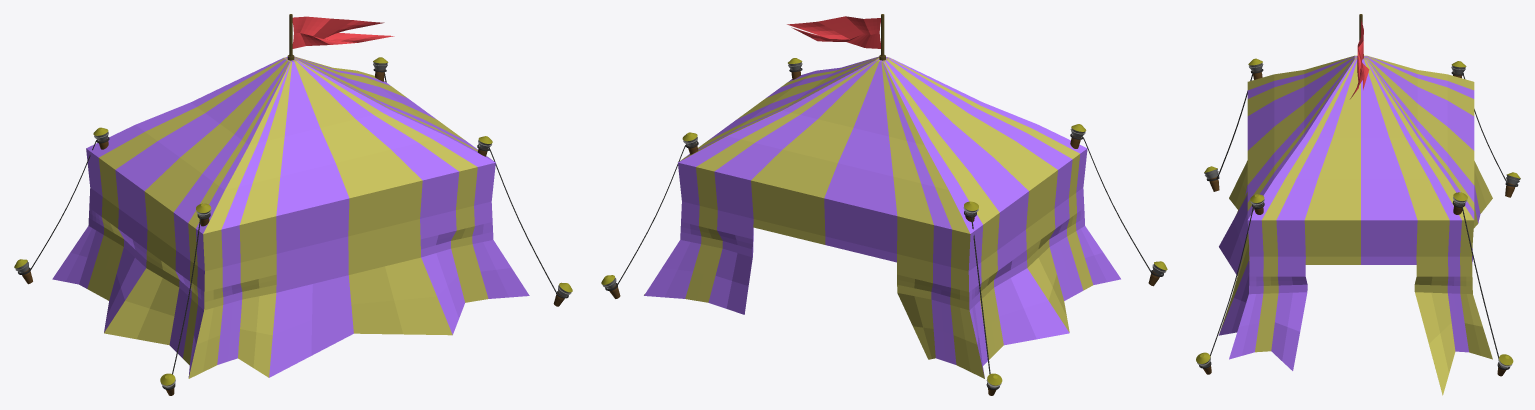
The model's file is tienda (amarillo).glb.
3 views of the same model, side by side, from view 1: azimuth 30°, elevation 25°; view 2: azimuth 150°, elevation 25°; view 3: azimuth 270°, elevation 25° (orthographic). The views are drawn at different scales.
Parts seen in each view (by area): view 1: Cube, Plane; view 2: Cube, Plane; view 3: Cube, Plane, Cylinder.001.
Boxes of the visible parts, x1,y1,x2,y2 form: Cube: (52,56,529,378); Plane: (292,16,394,48); Cube: (644,56,1120,378); Plane: (787,16,880,48); Cube: (1219,55,1492,395); Plane: (1350,19,1369,98); Cylinder.001: (1452,201,1499,358).
Size of the model in its own units: 19.84 by 13.68 by 13.97.
